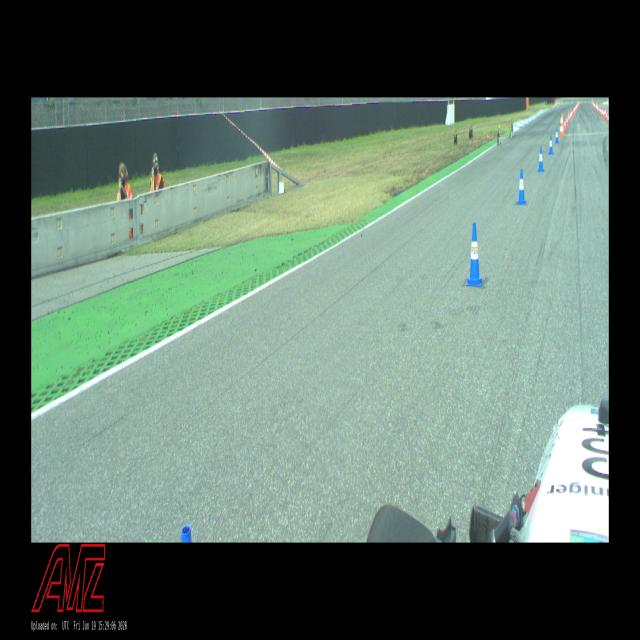blue_cone: (466, 223, 483, 286), (517, 169, 526, 205), (538, 147, 544, 172), (548, 136, 554, 154), (555, 128, 559, 143)
large_orange_cone: (559, 114, 564, 136), (562, 113, 564, 136)
orange_cone: (564, 119, 567, 130), (605, 111, 608, 120), (566, 115, 568, 126), (607, 113, 609, 123)
yellow_cone: (497, 123, 500, 136)
